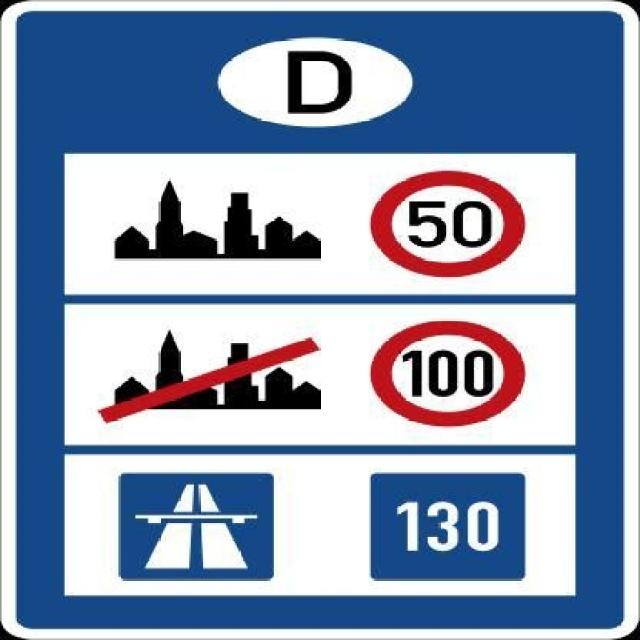forb_speed_over_100: (375, 318, 523, 427)
forb_speed_over_50: (369, 171, 525, 275)
